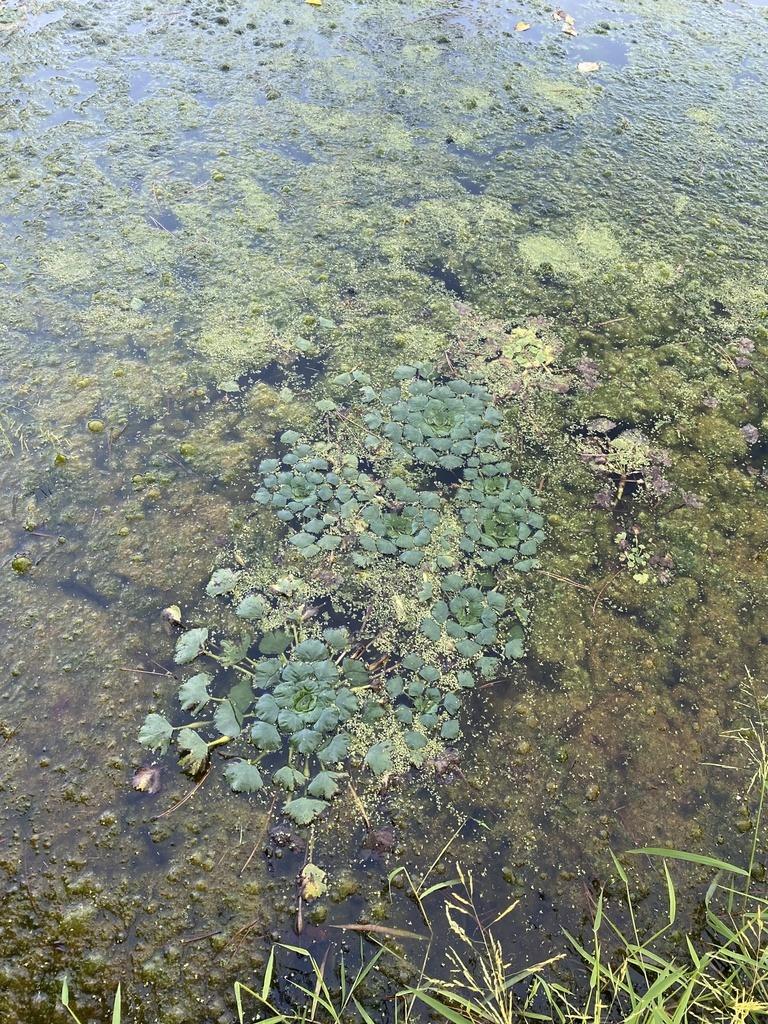water chestnut: (135, 359, 549, 830)
